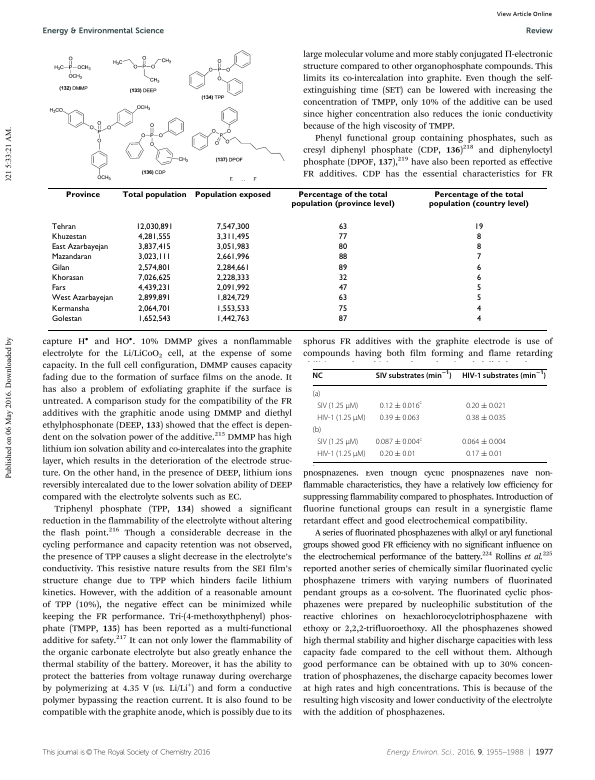borderless: (47, 186, 547, 330), (311, 367, 547, 462)
cell: (290, 191, 395, 209), (428, 191, 529, 209), (461, 370, 547, 380), (375, 370, 453, 380), (194, 191, 271, 200), (121, 191, 187, 200), (50, 294, 114, 303), (50, 243, 109, 252), (375, 436, 423, 447), (316, 413, 367, 423), (379, 400, 423, 411), (316, 450, 367, 459), (316, 401, 359, 411), (465, 401, 507, 411), (379, 413, 421, 423), (465, 413, 507, 423), (461, 438, 507, 447), (50, 304, 90, 314), (316, 438, 359, 447), (135, 222, 173, 232), (50, 253, 92, 262), (50, 232, 87, 242), (215, 222, 250, 232), (215, 232, 250, 242), (215, 263, 250, 273), (215, 273, 250, 283), (215, 304, 250, 314), (215, 314, 250, 324), (379, 450, 417, 459), (465, 450, 503, 459), (137, 232, 171, 242), (137, 263, 171, 273), (50, 273, 84, 283), (137, 273, 171, 283), (137, 304, 171, 314), (137, 314, 171, 324), (50, 314, 82, 324), (65, 191, 100, 200), (215, 243, 250, 252), (215, 253, 250, 262), (215, 284, 250, 293), (215, 294, 250, 303), (137, 243, 171, 252), (137, 253, 171, 262), (137, 284, 171, 293), (137, 294, 171, 303), (50, 222, 76, 232), (50, 263, 70, 273), (50, 284, 66, 293), (337, 222, 348, 232), (473, 222, 484, 232), (337, 232, 348, 242), (337, 263, 348, 273), (337, 273, 348, 283), (337, 304, 348, 314), (337, 314, 348, 324), (312, 371, 324, 380), (337, 243, 348, 252), (337, 253, 348, 262), (337, 284, 348, 293), (337, 294, 348, 303), (312, 389, 321, 399), (312, 426, 322, 435), (475, 273, 482, 283), (475, 314, 482, 324), (475, 243, 482, 252), (475, 253, 482, 262), (475, 284, 482, 293), (475, 294, 482, 303), (475, 232, 481, 242), (475, 263, 481, 273), (475, 304, 481, 314)
